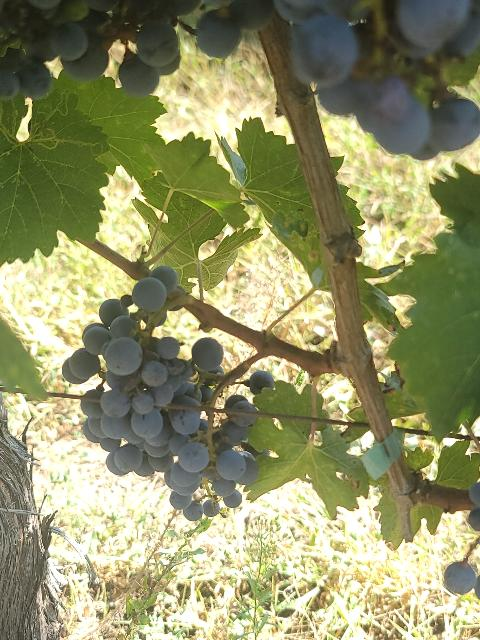grapes: (63, 266, 191, 475), (150, 395, 259, 521)
